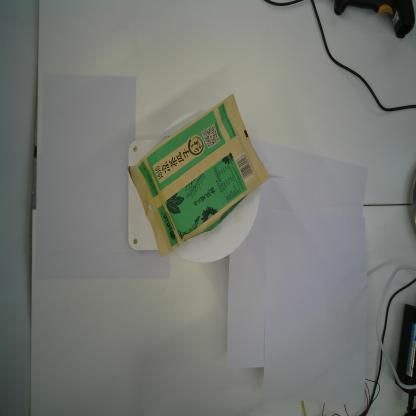Dried Food: (125, 91, 273, 262)
